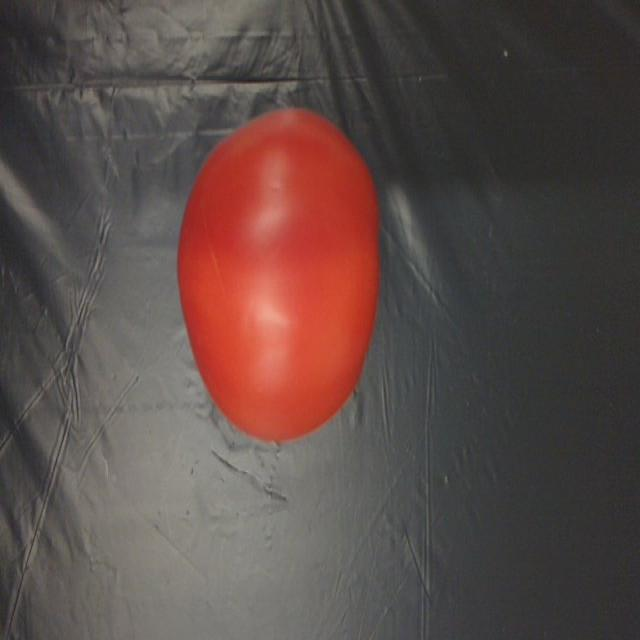kirmizi: (153, 82, 416, 467)
